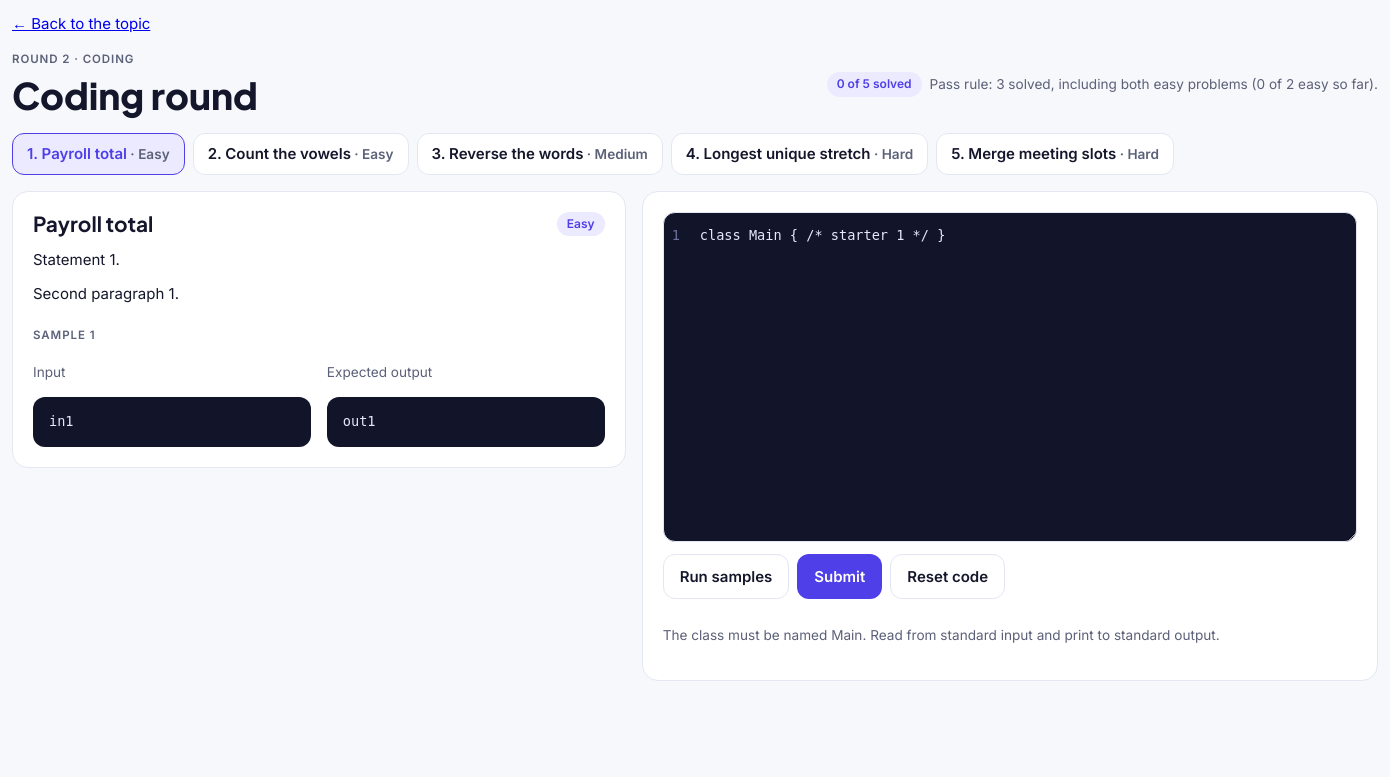
Scenario: writing and running code › a compile error shows the compiler message
Expected: the heading "Payroll total" is shown, [33,212,153,236]
Click the button "Run samples".
click(726, 577)  # box [663,554,789,599]
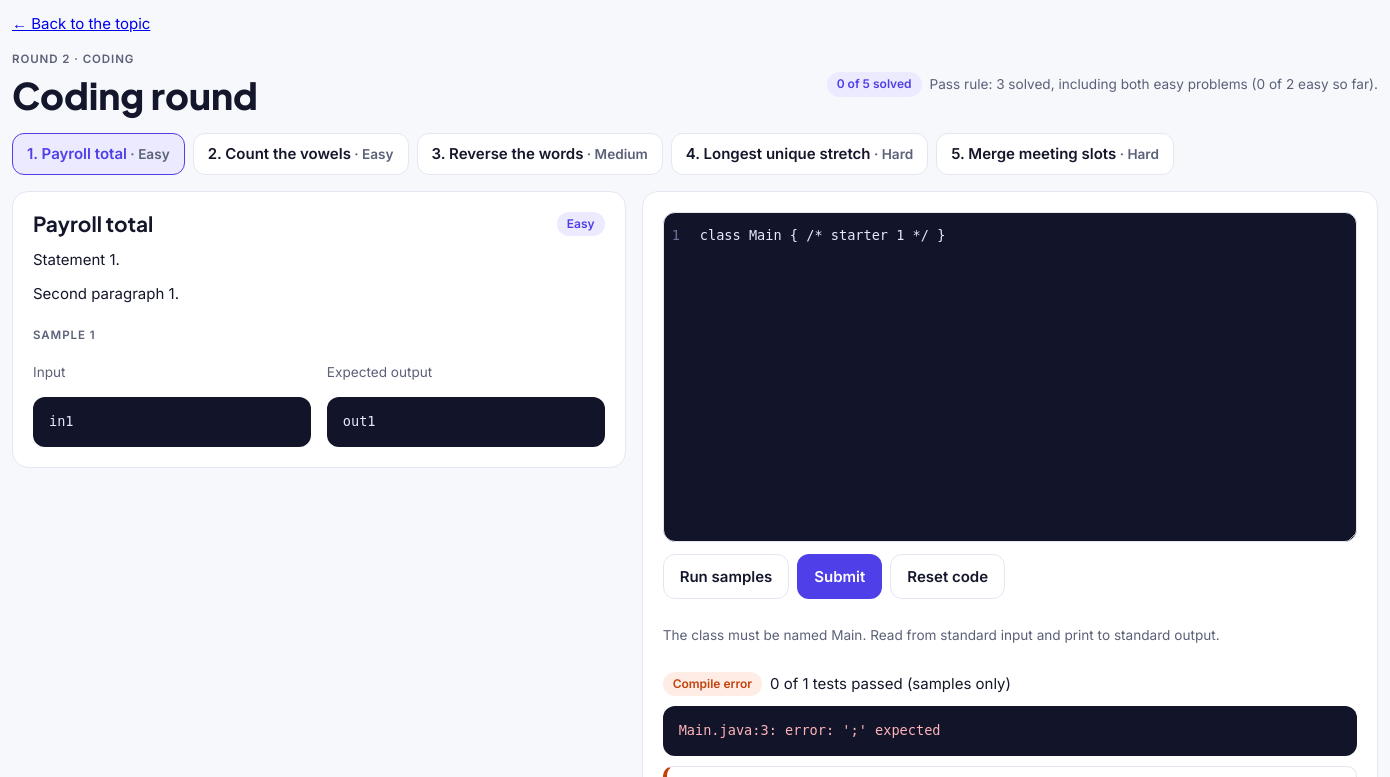
Result: the text "Main.java:3: error: ';' expected" is shown at [679,722,940,738]
Result: the text "Compile error" is shown at [663,672,762,696]
